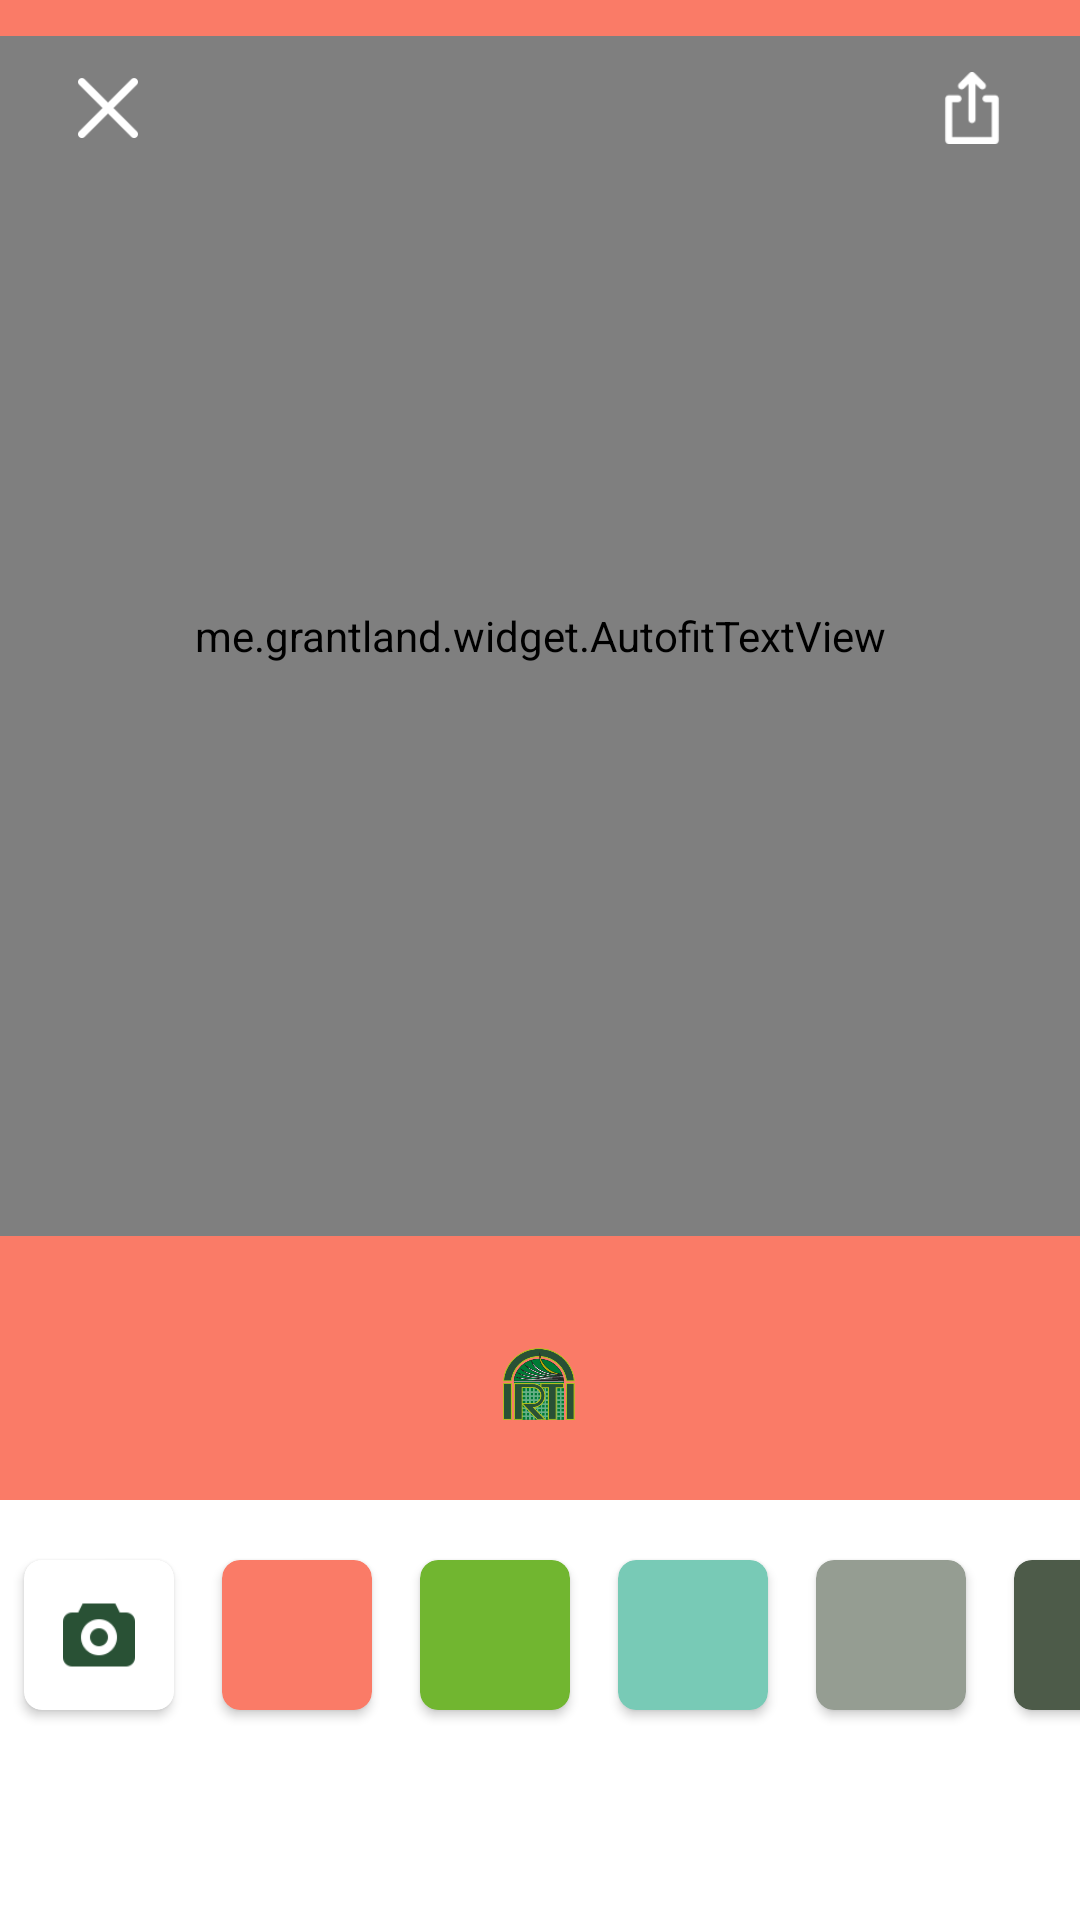

Screen size 1080×1920. Icon name, then its box in pixels as (x1, y1, x2, y2):
camera: (63, 1603, 135, 1667)
close: (78, 78, 138, 138)
share: (945, 72, 999, 144)
